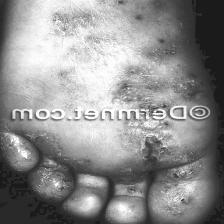Non-Cancerous Skin Condition: (42, 0, 156, 36), (107, 124, 183, 167), (107, 73, 205, 102), (156, 175, 204, 216), (36, 162, 76, 192), (1, 136, 51, 155), (113, 176, 139, 199)
